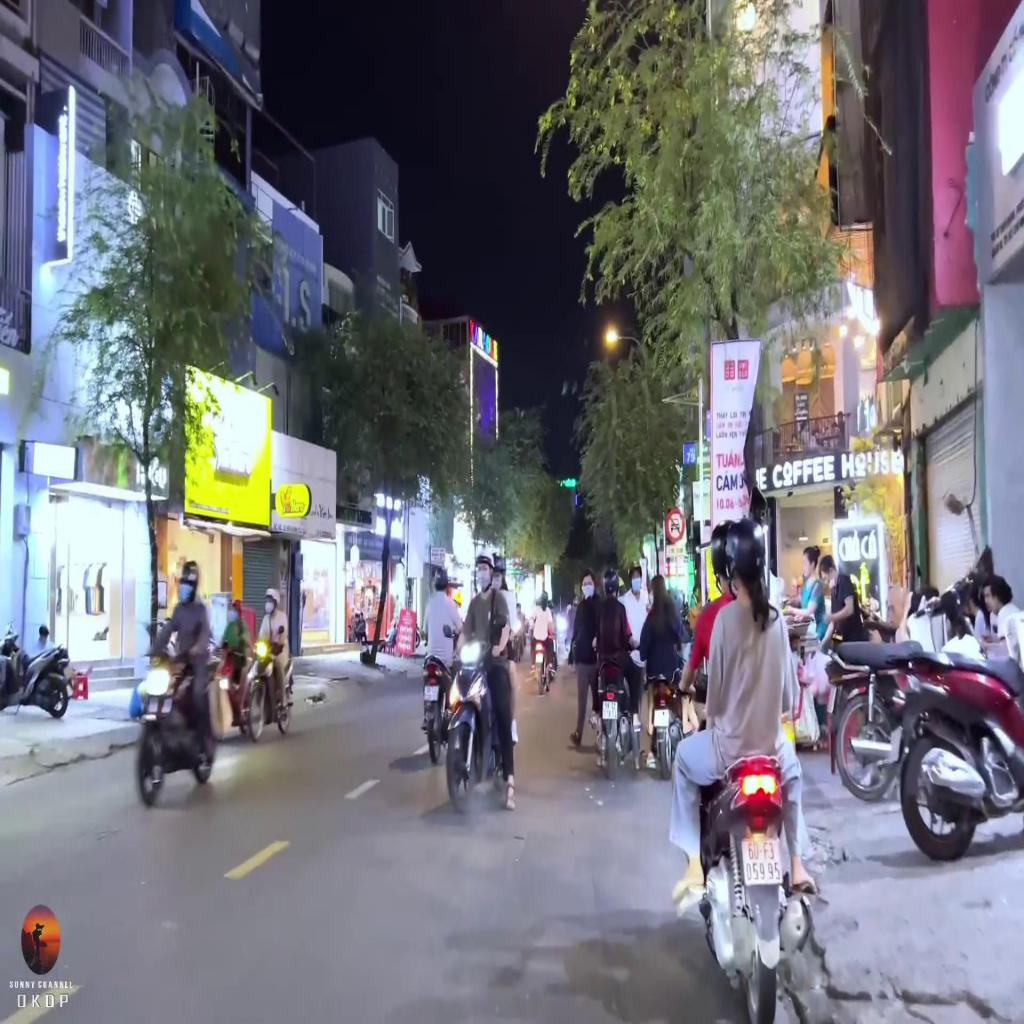cam_o_to: (666, 508, 685, 542)
khac: (666, 545, 686, 558)
